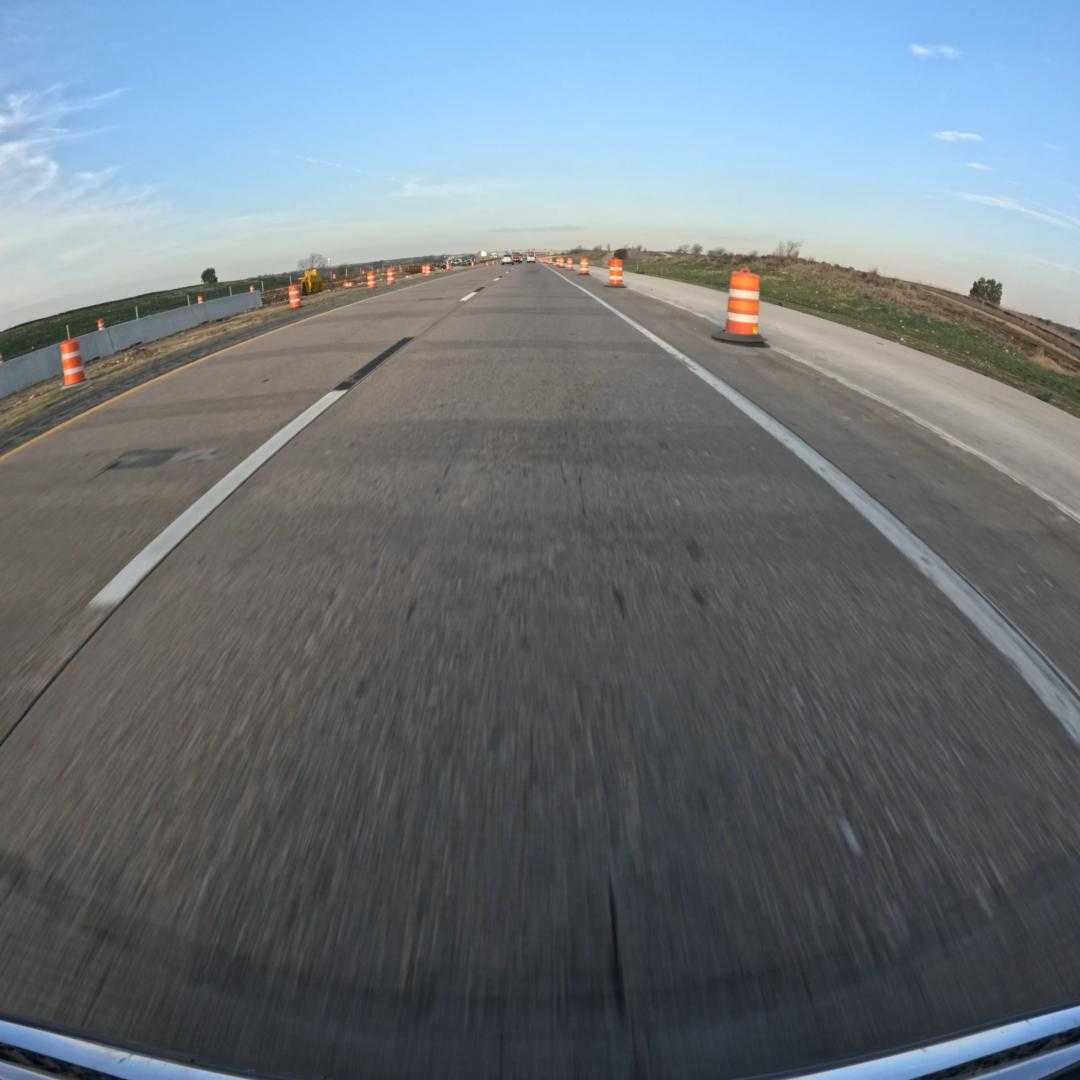lane0: (0, 267, 1080, 1077)
lane1: (0, 266, 504, 743)
